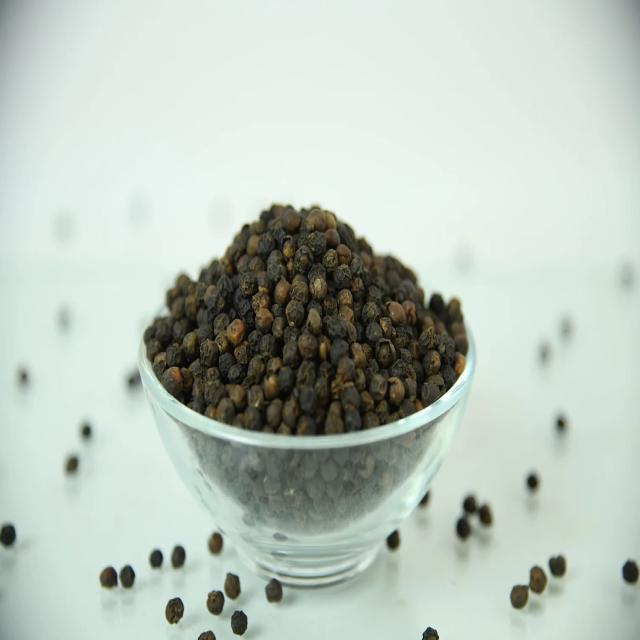Black pepper: (125, 190, 481, 424), (216, 552, 248, 603), (154, 586, 188, 630), (498, 576, 536, 614), (518, 555, 552, 592), (262, 568, 287, 618), (116, 558, 141, 598), (229, 603, 250, 640), (544, 550, 569, 581), (148, 536, 166, 578)
